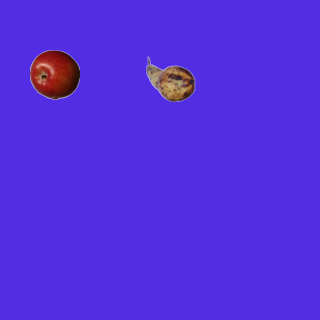Apple Braeburn: (29, 49, 79, 99)
Pear Abate: (145, 54, 195, 104)
